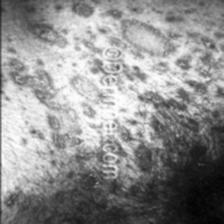Non-Cancerous Skin Condition: (0, 0, 110, 158), (121, 18, 169, 56), (68, 78, 98, 100), (31, 22, 60, 44)
